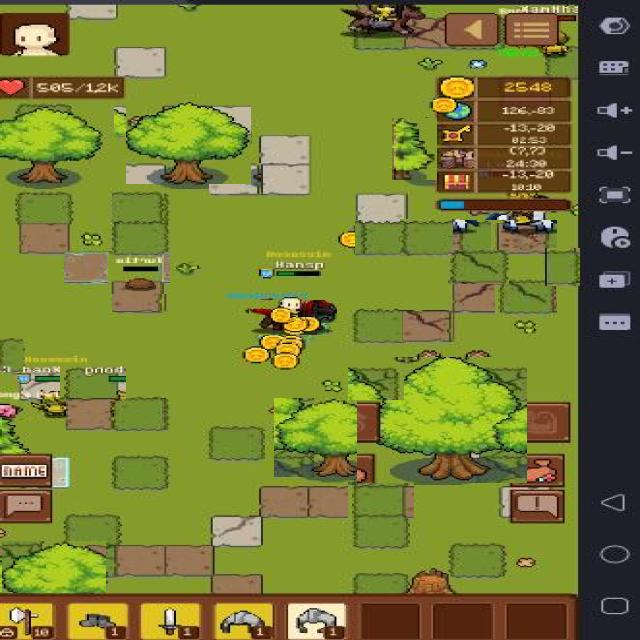earth_square: (112, 540, 170, 582), (491, 220, 557, 254), (301, 484, 365, 519), (112, 280, 164, 312), (402, 310, 453, 342), (64, 251, 114, 283), (259, 486, 309, 517), (66, 398, 114, 430), (19, 223, 68, 253), (452, 281, 499, 312), (164, 545, 211, 576), (404, 18, 443, 47), (211, 574, 261, 593)
grass: (176, 263, 199, 275), (79, 232, 101, 244)
gray_square: (209, 163, 261, 194), (211, 516, 261, 547), (114, 48, 164, 78), (261, 163, 309, 194), (358, 194, 406, 223), (114, 107, 161, 136), (261, 136, 309, 164), (19, 378, 68, 401), (66, 3, 114, 20), (52, 456, 70, 487)
green_square: (59, 512, 128, 552), (348, 482, 414, 520), (350, 305, 408, 347), (60, 365, 126, 401), (496, 278, 558, 314), (400, 219, 460, 256), (356, 220, 412, 258), (351, 514, 414, 547), (448, 250, 509, 284), (453, 220, 509, 256), (446, 542, 504, 576), (110, 454, 166, 488), (348, 367, 404, 400), (209, 425, 263, 459), (114, 398, 166, 431), (112, 192, 164, 223), (114, 222, 164, 254), (18, 194, 72, 223), (545, 248, 580, 286), (0, 338, 23, 372)
mouse: (482, 194, 561, 233), (249, 300, 337, 335), (344, 6, 430, 36)
player: (24, 384, 82, 419), (504, 188, 538, 230), (368, 3, 403, 26), (277, 294, 305, 321)
tree: (358, 357, 528, 483), (126, 101, 251, 184), (274, 398, 394, 477), (0, 104, 101, 186), (2, 541, 106, 593), (392, 118, 437, 180), (0, 411, 29, 454), (408, 570, 454, 593)
turtle: (108, 252, 170, 294)
